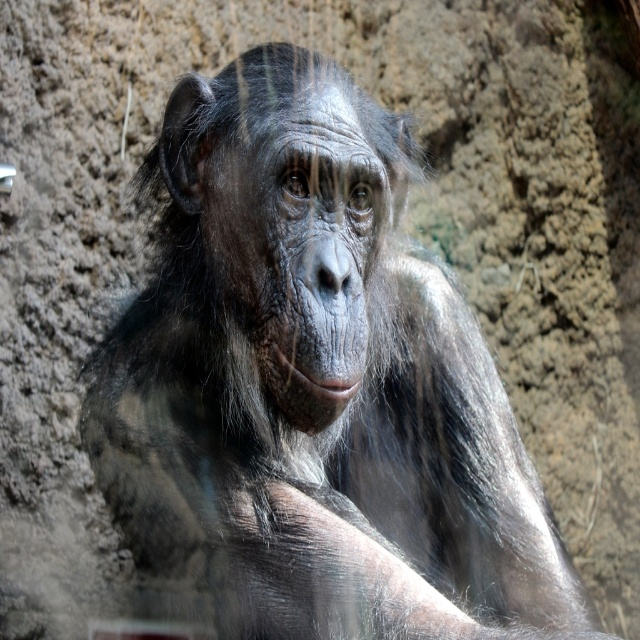Monkey: (74, 43, 622, 639)
